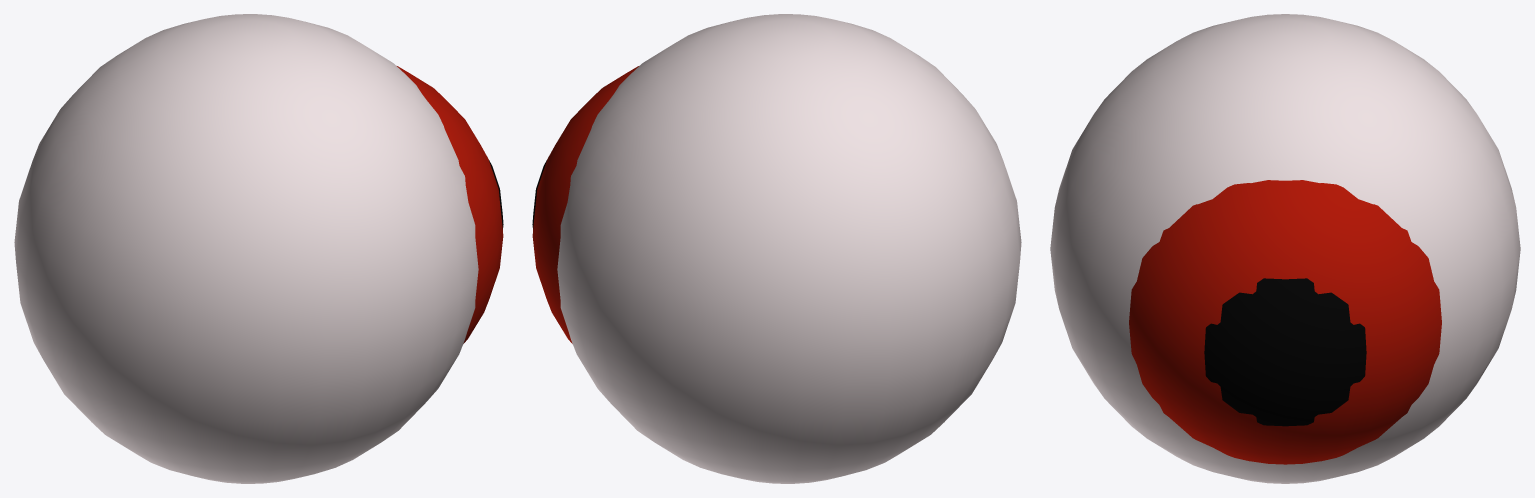
Rendered from eyeball_red2.fbx.
3 views of the same model, side by side, from view 1: azimuth 30°, elevation 25°; view 2: azimuth 150°, elevation 25°; view 3: azimuth 270°, elevation 25° (orthographic).
Visible parts, largest first — view 1: Sphere.002; view 2: Sphere.002; view 3: Sphere.002.
Boxes of the visible parts, x1,y1,x2,y2 form: Sphere.002: (14, 14, 503, 483); Sphere.002: (532, 14, 1021, 483); Sphere.002: (1050, 14, 1520, 483).
Size of the model in its own units: 184 by 170 by 170.
